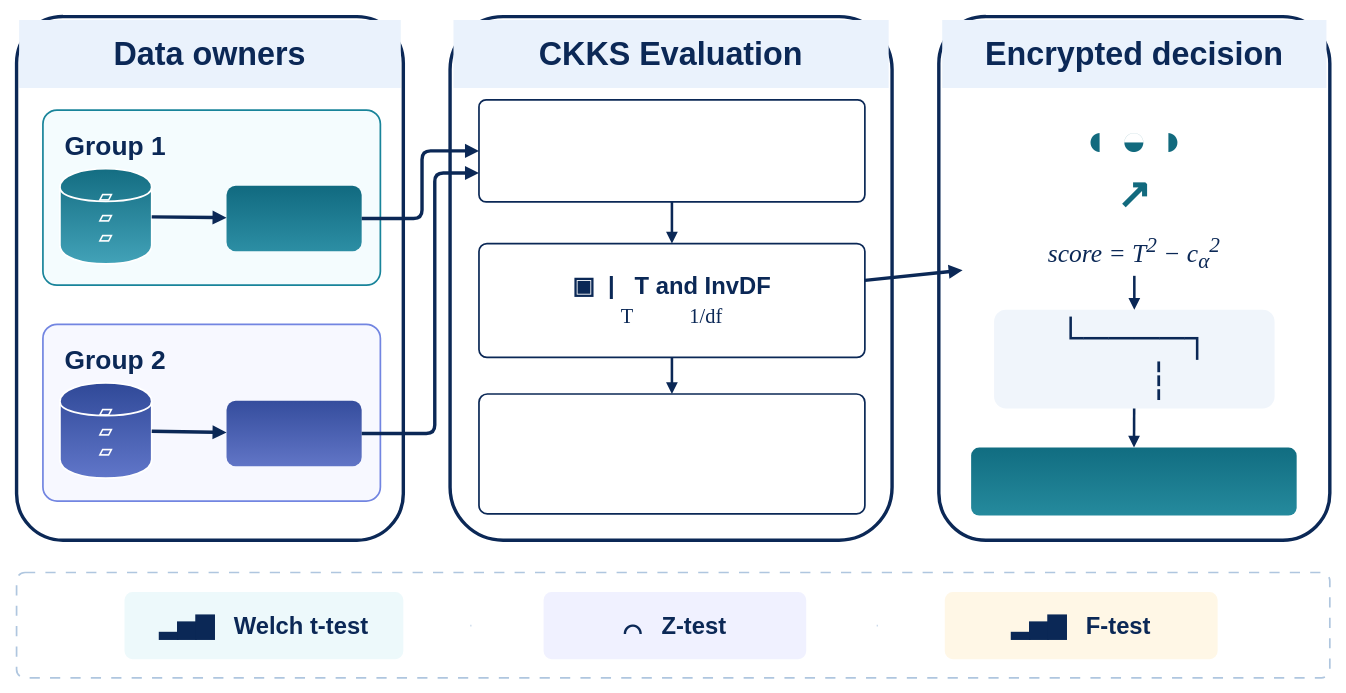
Some shapes in this 1346 by 693 pixel diagram are drawn without their labels. The centre of each missing label's shape, as x and y in pixels:
"Enc(X 1 )" belongs at point (293, 218).
"Enc(X 2 )" belongs at point (293, 433).
"Reject / Retain" belongs at point (1133, 481).
"∿ | Chebyshev approximation c α" belongs at point (671, 453).
"▂▅▇ | Sufficient statistics" belongs at point (671, 150).
